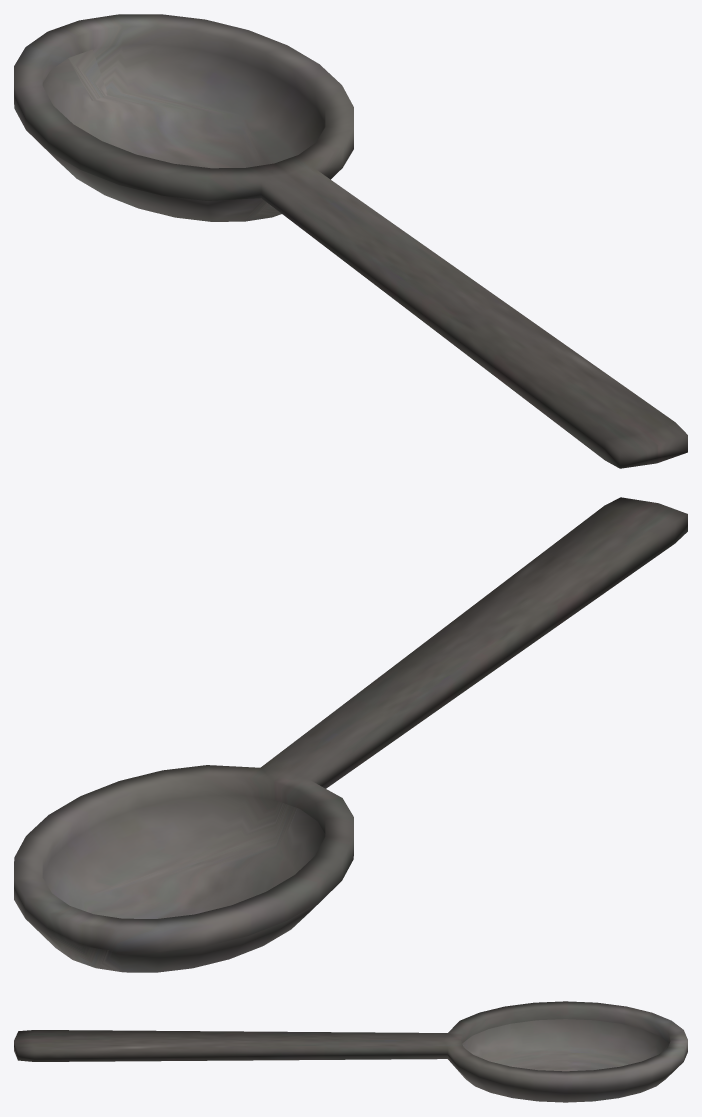
File: Spoon.obj
3 views of the same model, one above another, from view 1: azimuth 30°, elevation 25°; view 2: azimuth 150°, elevation 25°; view 3: azimuth 270°, elevation 25° (orthographic). The views are drawn at different scales.
Visible parts, largest first — view 1: Spoon.obj; view 2: Spoon.obj; view 3: Spoon.obj.
Part boxes in pixels (box(x1,y1,x2,y2)): Spoon.obj: box(14, 14, 687, 468); Spoon.obj: box(14, 497, 687, 972); Spoon.obj: box(14, 1001, 687, 1102).
Size of the model in its own units: 1.1 by 0.2827 by 4.08.
